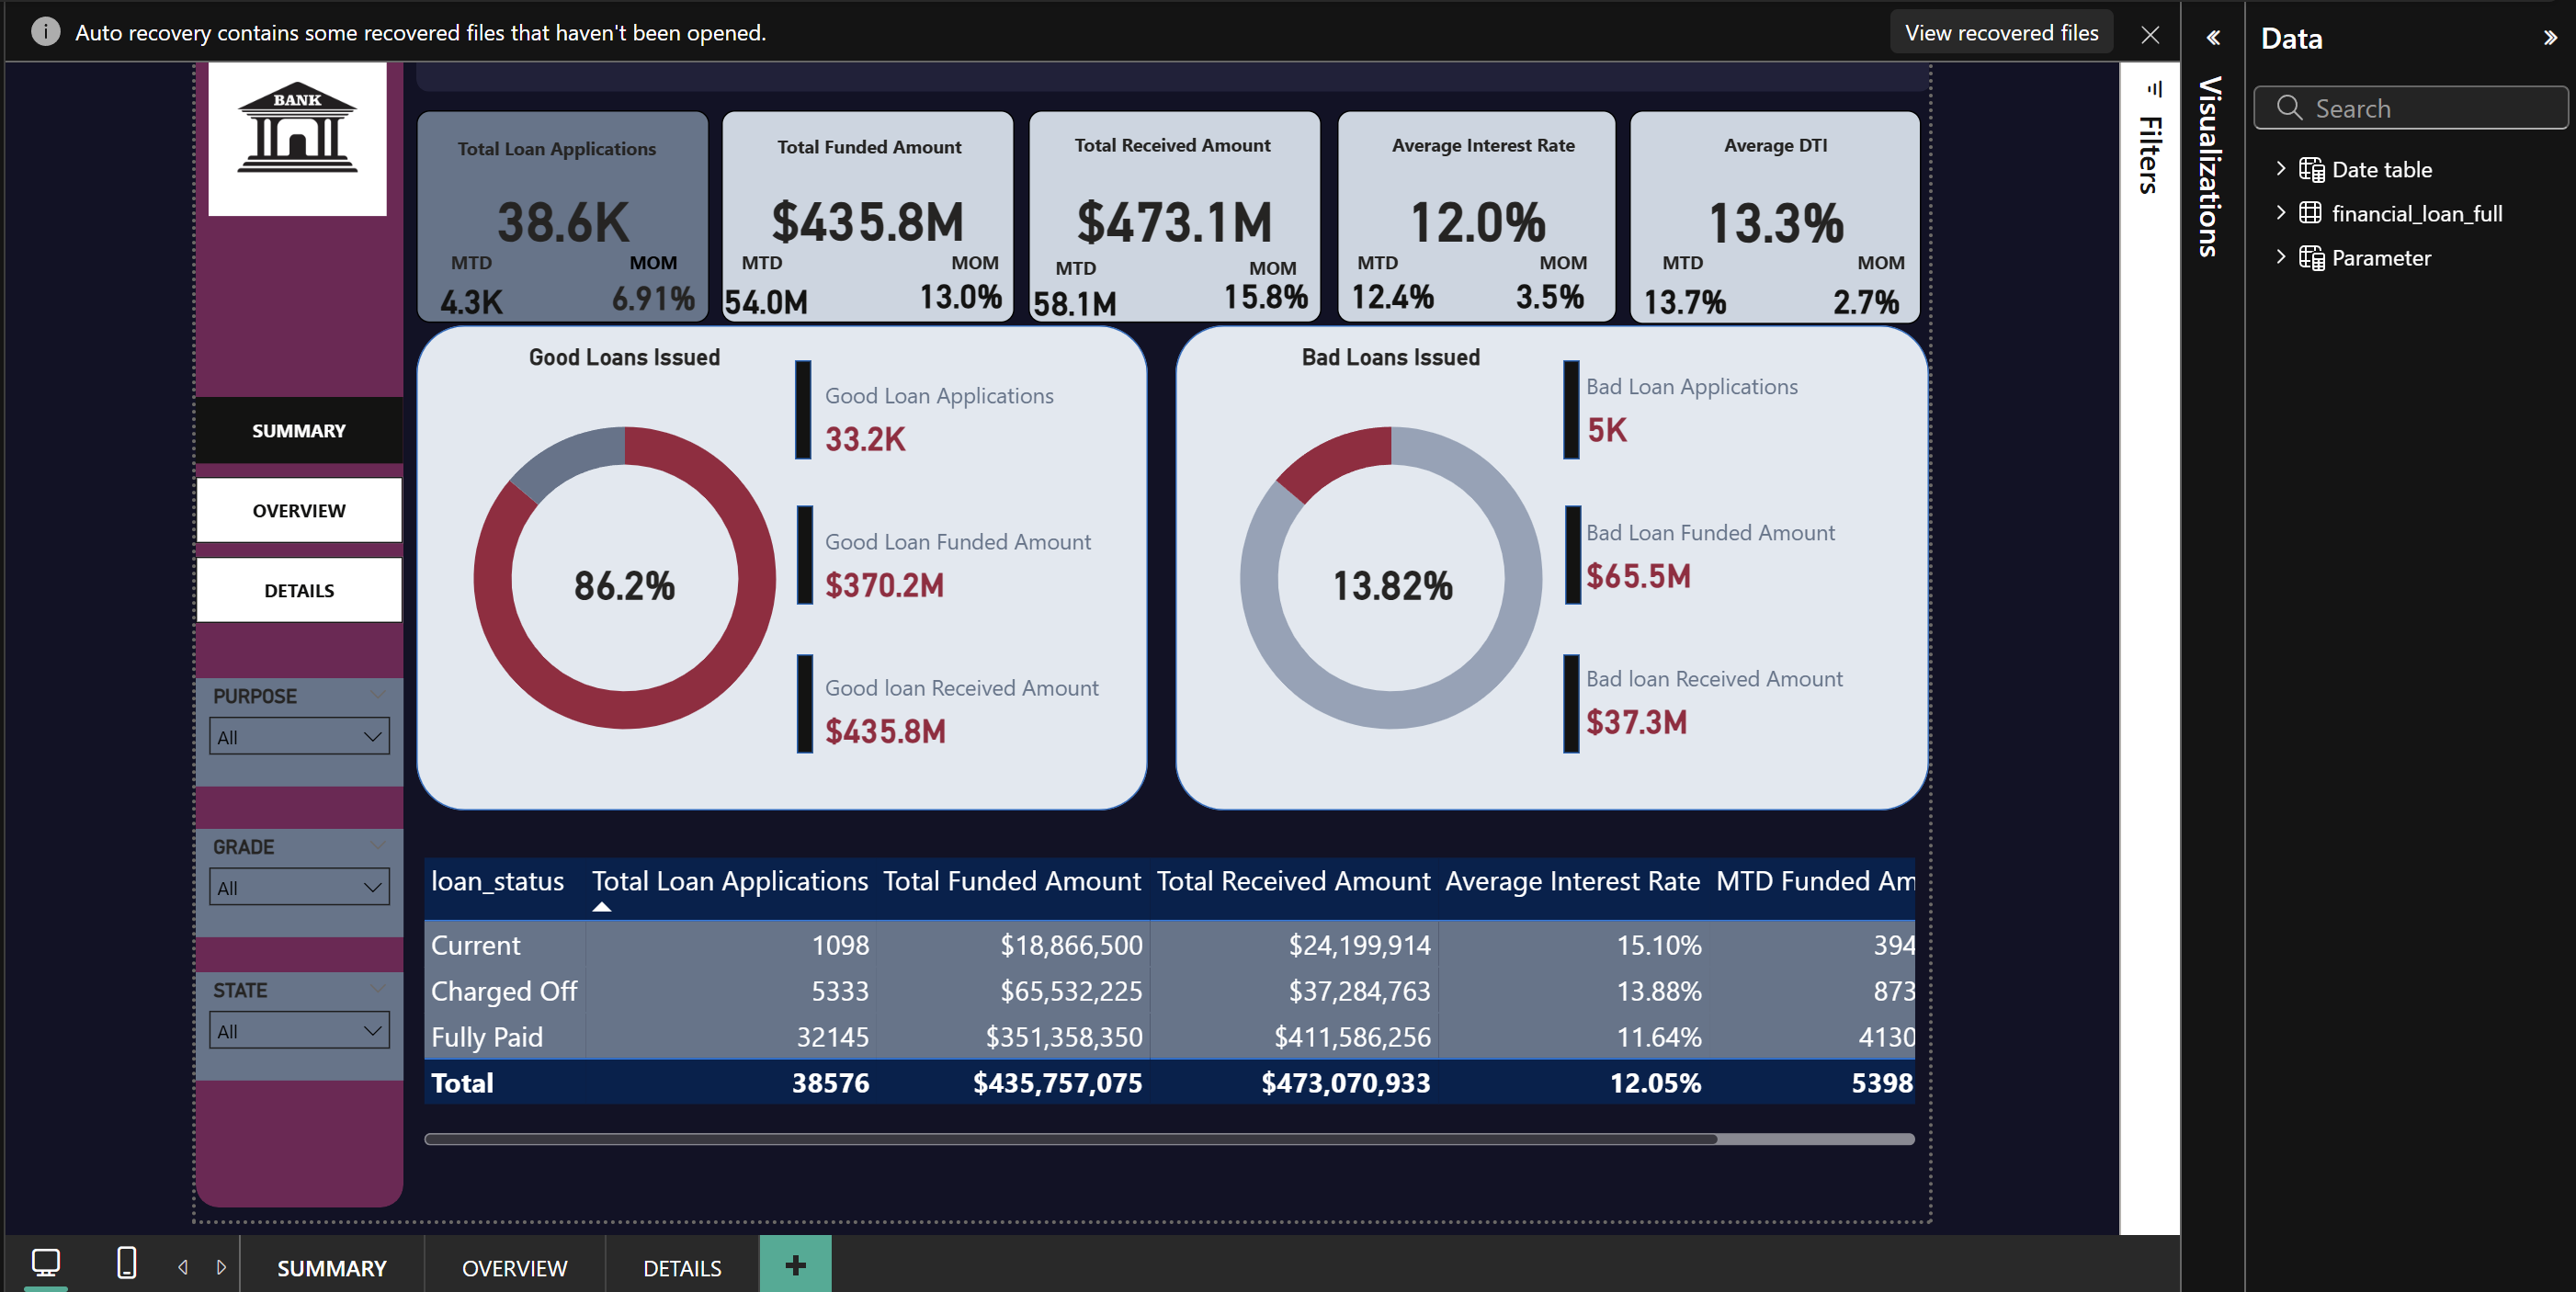

This screenshot's page, from the dashboard's own definition file:
{"tool":"powerbi","page":{"name":"SUMMARY","canvas":[1280,900],"ordinal":0},"visuals":[{"type":"shape","box":[163.2,0,1119.4,66.3],"z":0},{"type":"textbox","box":[530.4,0,470.4,66.3],"z":1000},{"type":"shape","box":[0,0,153.4,890.5],"z":2000},{"type":"card","fields":{"Values":["financial_loan_full.Total Loan Applications"]},"box":[163.2,80.3,216.7,156.8],"z":3000},{"type":"textbox","box":[172.1,93.1,188.7,31.9],"z":4000},{"type":"card","fields":{"Values":["financial_loan_full.MTD Loan Application"]},"box":[172.1,205.3,62.5,31.9],"z":5000},{"type":"textbox","box":[172.1,177.2,62.5,28],"z":6000},{"type":"textbox","box":[295.8,177.2,84.1,28],"z":7000},{"type":"card","title":"Total Funded Amount","fields":{"Values":["financial_loan_full.Total Funded Amount"]},"box":[388.8,80.3,216.7,156.8],"z":8000},{"type":"card","fields":{"Values":["financial_loan_full.Total Received Amount"]},"box":[614.5,80.3,216.7,156.8],"z":9000},{"type":"card","fields":{"Values":["financial_loan_full.Average Interest Rate"]},"box":[842.7,80.3,206.5,156.8],"z":10000},{"type":"card","fields":{"Values":["financial_loan_full.Average DTI"]},"box":[1059.4,80.3,215.5,158.1],"z":11000},{"type":"card","fields":{"Values":["financial_loan_full.MOM Loan Application"]},"box":[286.9,196.3,103.3,42.1],"z":12000},{"type":"textbox","box":[406.7,91.8,181,31.9],"z":13000},{"type":"textbox","box":[388.8,177.2,59.9,28],"z":14000},{"type":"textbox","box":[545.7,177.2,59.9,28],"z":15000},{"type":"card","fields":{"Values":["financial_loan_full.MTD Funded Amount"]},"box":[379.9,205.3,81.6,31.9],"z":16000},{"type":"card","fields":{"Values":["financial_loan_full.MOM Funded Amount"]},"box":[524,201.4,81.6,31.9],"z":17000},{"type":"textbox","box":[628.5,90.5,186.1,34.4],"z":18000},{"type":"textbox","box":[614.5,182.3,70.1,28],"z":19000},{"type":"textbox","box":[766.2,182.3,59.9,28],"z":20000},{"type":"card","fields":{"Values":["financial_loan_full.MTD Recieved Amount"]},"box":[608.1,206.5,81.6,31.9],"z":21000},{"type":"card","fields":{"Values":["financial_loan_full.MOM Received Amount"]},"box":[749.6,201.4,81.6,31.9],"z":22000},{"type":"textbox","box":[860.6,90.5,181,31.9],"z":23000},{"type":"textbox","box":[970.2,178.5,79,28],"z":24000},{"type":"textbox","box":[842.7,178.5,59.9,28],"z":25000},{"type":"card","fields":{"Values":["financial_loan_full.MTD Average rate"]},"box":[842.7,201.4,81.6,31.9],"z":26000},{"type":"card","fields":{"Values":["financial_loan_full.MOM Average Interest Rate"]},"box":[960,201.4,81.6,31.9],"z":27000},{"type":"textbox","box":[1068.4,90.5,197.6,31.9],"z":28000},{"type":"textbox","box":[1215,178.5,59.9,28],"z":29000},{"type":"textbox","box":[1068.4,178.5,59.9,28],"z":30000},{"type":"card","fields":{"Values":["financial_loan_full.MTD average DTI"]},"box":[1059.4,205.3,81.6,31.9],"z":31000},{"type":"card","fields":{"Values":["financial_loan_full.MOM Average DTI"]},"box":[1193.3,205.3,81.6,31.9],"z":32000},{"type":"shape","box":[162.9,238.9,540.3,358.4],"z":33000},{"type":"shape","box":[723.5,238.9,556.6,358.4],"z":34000},{"type":"donutChart","title":"Good Loans Issued","fields":{"Category":["financial_loan_full.Good vs Bad Loan"],"Y":["financial_loan_full.Total Loan Applications"]},"box":[172.4,252.5,289.1,327.1],"z":35000},{"type":"card","fields":{"Values":["financial_loan_full.Good Loan %"]},"box":[266.1,397.7,101.8,62.4],"z":36000},{"type":"cardVisual","fields":{"Data":["financial_loan_full.Good Loan Applications","financial_loan_full.Good Loan Funded Amount","financial_loan_full.Good loan Received Amount"]},"box":[448,252.5,243,327.1],"z":37000},{"type":"shape","box":[442.5,264.7,12.2,73.3],"z":38000},{"type":"shape","box":[443.9,371.9,12.2,73.3],"z":39000},{"type":"shape","box":[443.9,481.9,12.2,73.3],"z":40000},{"type":"donutChart","title":"Bad Loans Issued","fields":{"Category":["financial_loan_full.Good vs Bad Loan"],"Y":["financial_loan_full.Total Loan Applications"]},"box":[738.5,252.5,289.1,327.1],"z":41000},{"type":"cardVisual","fields":{"Data":["financial_loan_full.Bad Loan Applications","financial_loan_full.Bad Loan Funded Amount","financial_loan_full.Bad loan Received Amount"]},"box":[1010,245.7,243,327.1],"z":42000},{"type":"shape","box":[1010,264.7,12.2,73.3],"z":43000},{"type":"shape","box":[1011.3,371.9,12.2,73.3],"z":44000},{"type":"shape","box":[1010,481.9,12.2,73.3],"z":45000},{"type":"card","fields":{"Values":["financial_loan_full.Bad Loan %"]},"box":[832.1,397.7,103.2,62.4],"z":46000},{"type":"tableEx","fields":{"Values":["financial_loan_full.loan_status","financial_loan_full.Total Loan Applications","financial_loan_full.Total Funded Amount","financial_loan_full.Total Received Amount","financial_loan_full.Average Interest Rate","financial_loan_full.MTD Funded Amount","financial_loan_full.Average DTI"]},"box":[162.9,627.1,1111.8,222.6],"z":47000},{"type":"slicer","fields":{"Values":["financial_loan_full.purpose"]},"box":[0,499.5,153.4,80.1],"z":48000},{"type":"slicer","fields":{"Values":["financial_loan_full.grade"]},"box":[0,610.9,153.4,80.1],"z":49000},{"type":"slicer","fields":{"Values":["financial_loan_full.address_state"]},"box":[0,716.7,153.4,80.1],"z":50000},{"type":"pageNavigator","box":[0,291.9,153.4,168.3],"z":51000},{"type":"image","box":[0,21.4,150,141.4],"z":51001}]}

Visuals, with their boxes on the page's 1280x900 design canvas (x1, y1, x2, y2). These are canvas units, not pixel positions in the 2576x1292 screenshot, which may show the page scaled, cropped or inside an application window:
shape: 163:0:1283:66
textbox: 530:0:1001:66
shape: 0:0:153:890
card - financial_loan_full.Total Loan Applications: 163:80:380:237
textbox: 172:93:361:125
card - financial_loan_full.MTD Loan Application: 172:205:235:237
textbox: 172:177:235:205
textbox: 296:177:380:205
"Total Funded Amount" card: 389:80:606:237
card - financial_loan_full.Total Received Amount: 614:80:831:237
card - financial_loan_full.Average Interest Rate: 843:80:1049:237
card - financial_loan_full.Average DTI: 1059:80:1275:238
card - financial_loan_full.MOM Loan Application: 287:196:390:238
textbox: 407:92:588:124
textbox: 389:177:449:205
textbox: 546:177:606:205
card - financial_loan_full.MTD Funded Amount: 380:205:462:237
card - financial_loan_full.MOM Funded Amount: 524:201:606:233
textbox: 628:90:815:125
textbox: 614:182:685:210
textbox: 766:182:826:210
card - financial_loan_full.MTD Recieved Amount: 608:206:690:238
card - financial_loan_full.MOM Received Amount: 750:201:831:233
textbox: 861:90:1042:122
textbox: 970:178:1049:206
textbox: 843:178:903:206
card - financial_loan_full.MTD Average rate: 843:201:924:233
card - financial_loan_full.MOM Average Interest Rate: 960:201:1042:233
textbox: 1068:90:1266:122
textbox: 1215:178:1275:206
textbox: 1068:178:1128:206
card - financial_loan_full.MTD average DTI: 1059:205:1141:237
card - financial_loan_full.MOM Average DTI: 1193:205:1275:237
shape: 163:239:703:597
shape: 724:239:1280:597
"Good Loans Issued" donutChart: 172:252:462:580
card - financial_loan_full.Good Loan %: 266:398:368:460
cardVisual - financial_loan_full.Good Loan Applications x financial_loan_full.Good Loan Funded Amount: 448:252:691:580
shape: 442:265:455:338
shape: 444:372:456:445
shape: 444:482:456:555
"Bad Loans Issued" donutChart: 738:252:1028:580
cardVisual - financial_loan_full.Bad Loan Applications x financial_loan_full.Bad Loan Funded Amount: 1010:246:1253:573
shape: 1010:265:1022:338
shape: 1011:372:1024:445
shape: 1010:482:1022:555
card - financial_loan_full.Bad Loan %: 832:398:935:460
tableEx - financial_loan_full.loan_status x financial_loan_full.Total Loan Applications: 163:627:1275:850
slicer - financial_loan_full.purpose: 0:500:153:580
slicer - financial_loan_full.grade: 0:611:153:691
slicer - financial_loan_full.address_state: 0:717:153:797
pageNavigator: 0:292:153:460
image: 0:21:150:163
